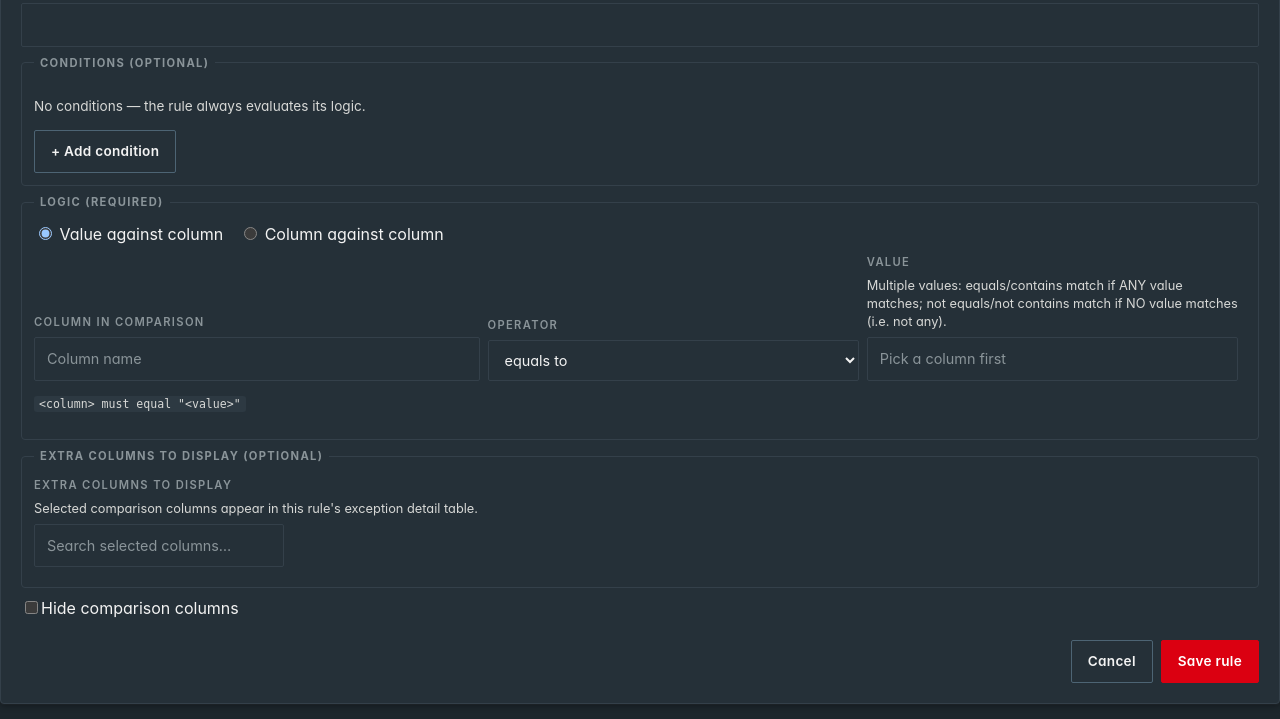
RuleEditor › blocks saving and lists validation errors for an empty rule
The image size is (1280, 719).
(page scrolled)
Click the button "Save rule": (1210, 662) left=1161, top=640, right=1259, bottom=683
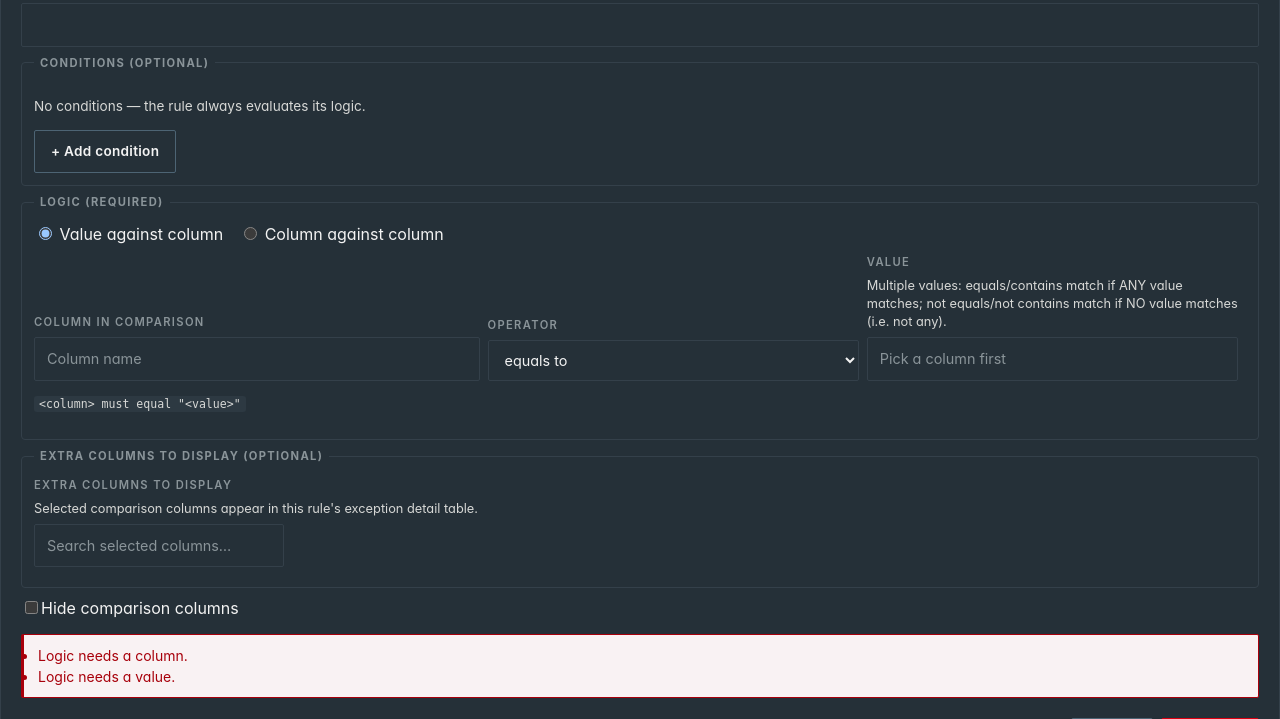
Now the list item "Logic needs a column." is shown, box left=38, top=648, right=188, bottom=664
